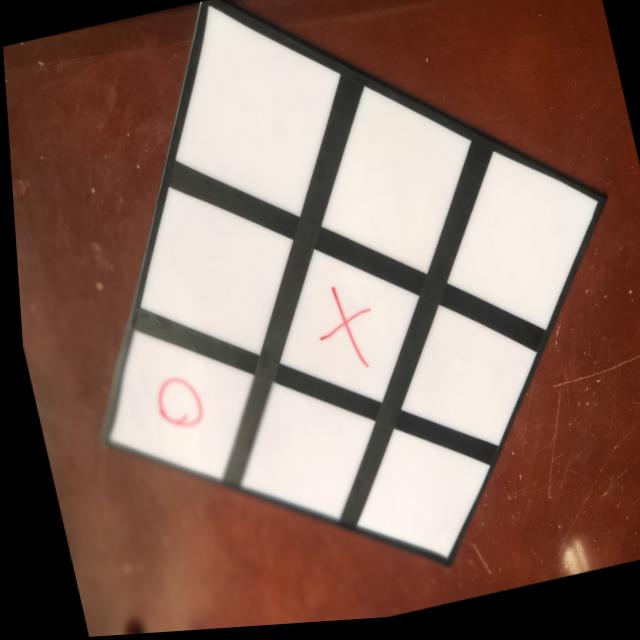null: (162, 8, 349, 224), (312, 90, 478, 282), (118, 191, 302, 361), (434, 156, 599, 338), (388, 308, 536, 455), (230, 384, 370, 525), (350, 431, 481, 571)
o: (144, 366, 203, 440)
table: (31, 4, 614, 591)
x: (302, 288, 381, 379)
